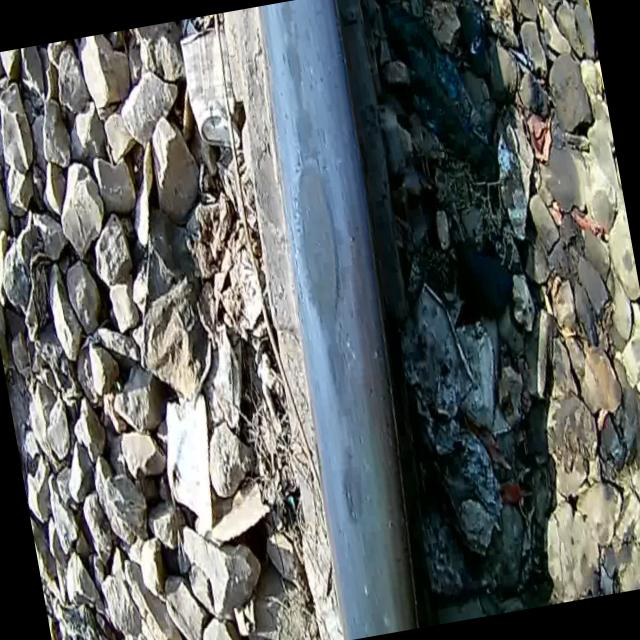Squats: (211, 0, 470, 640)
